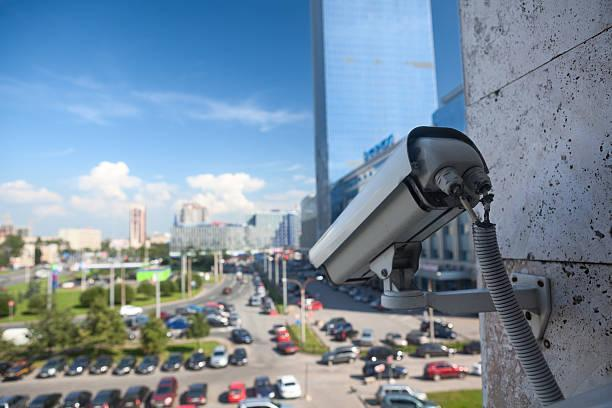camera: (257, 99, 538, 298)
